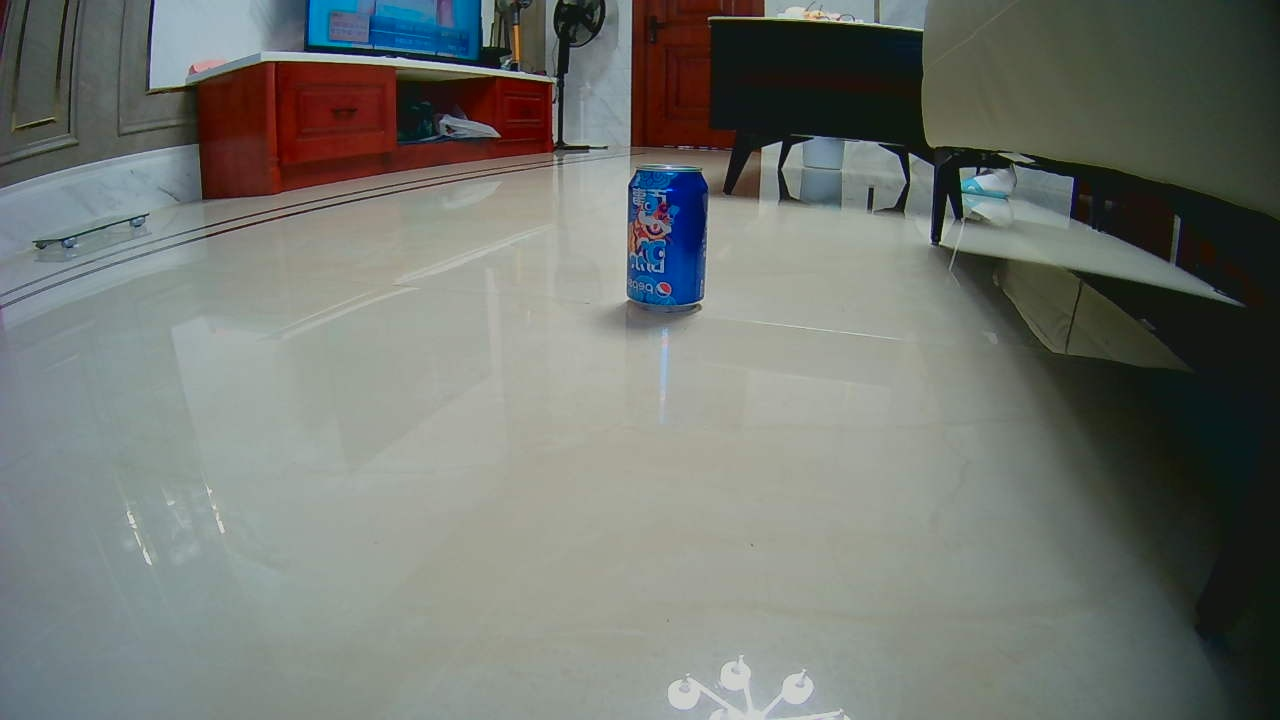pessi: (624, 163, 707, 312)
